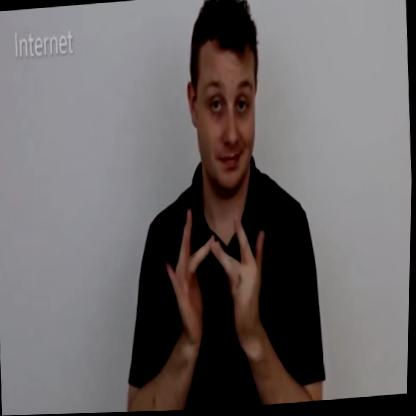Internet: (104, 0, 337, 413)
